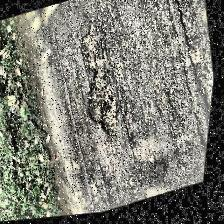pothole: (70, 27, 132, 147)
